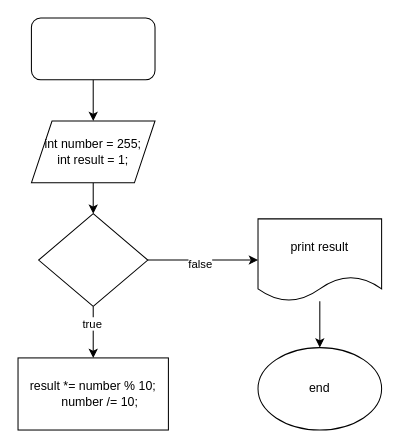
Some shapes in this 400 by 448 pixel diagram are drawn without their labels. The centre of each missing label's shape, as x and y in pixels:
"number != 0" belongs at point (93, 259).
"start" belongs at point (92, 48).
